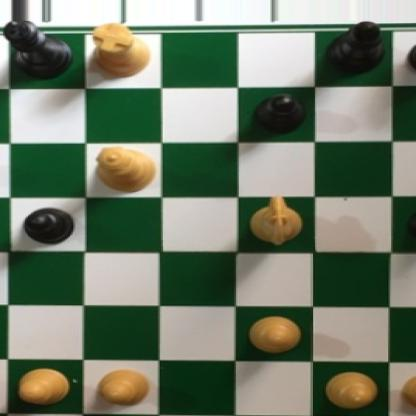black-bishop: (324, 21, 388, 78)
black-king: (0, 21, 71, 82)
black-knight: (407, 21, 416, 79)
black-pawn: (250, 92, 303, 135), (20, 205, 75, 244), (404, 205, 416, 245)
white-knight: (248, 192, 304, 248)
white-pawn: (320, 368, 380, 412), (12, 366, 73, 408), (245, 313, 304, 352), (95, 367, 152, 406), (400, 373, 416, 413)
white-queen: (92, 145, 158, 195)
white-rook: (82, 21, 149, 79)
